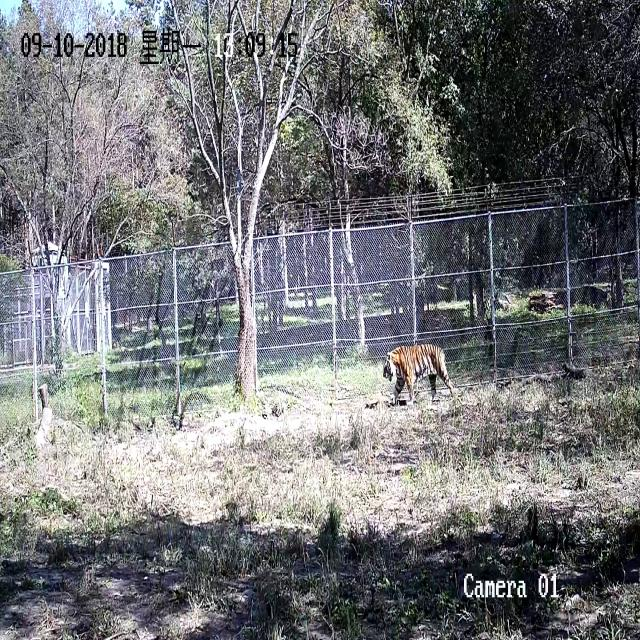Tiger: (349, 303, 472, 422)
